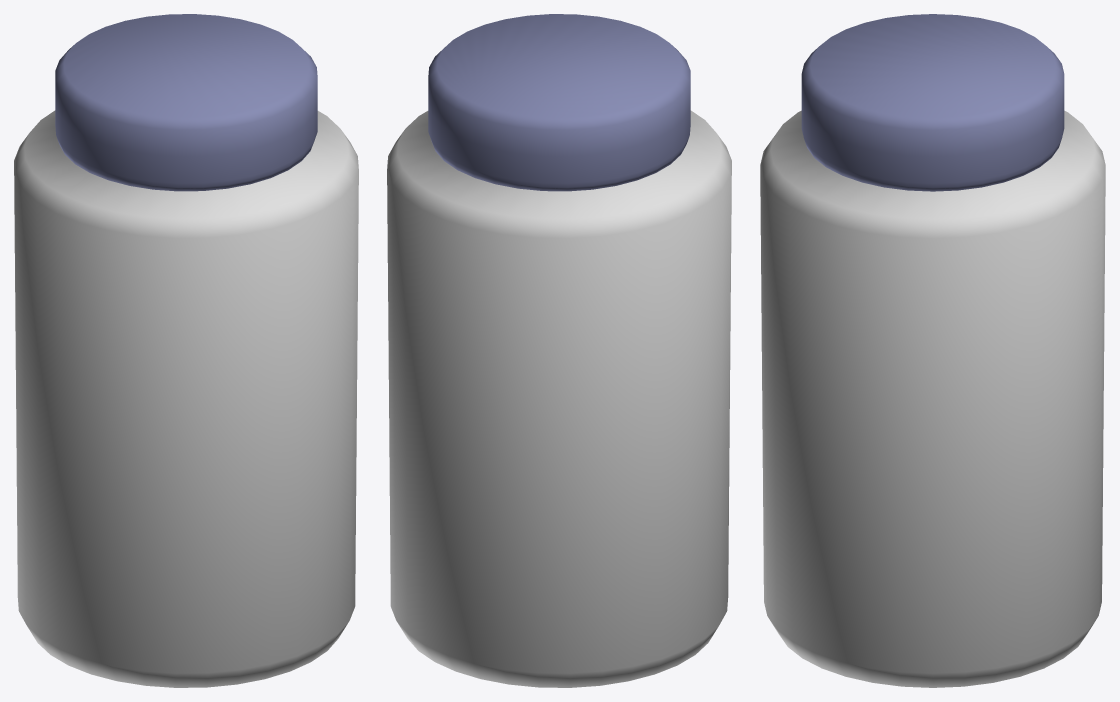
File: tepung tapioka fix.fbx
The picture shows the model from 3 angles, left to right: view 1: azimuth 30°, elevation 25°; view 2: azimuth 150°, elevation 25°; view 3: azimuth 270°, elevation 25°; orthographic projection.
Visible parts, largest first — view 1: Cylinder, Cylinder.002; view 2: Cylinder, Cylinder.002; view 3: Cylinder, Cylinder.002.
Boxes of the visible parts, x1,y1,x2,y2 form: Cylinder: (14,110,358,687); Cylinder.002: (55,14,317,191); Cylinder: (387,110,731,687); Cylinder.002: (428,14,690,191); Cylinder: (760,110,1105,687); Cylinder.002: (801,14,1064,191).
Bounding box in the file's own units: 13.35 × 23.69 × 13.35.
